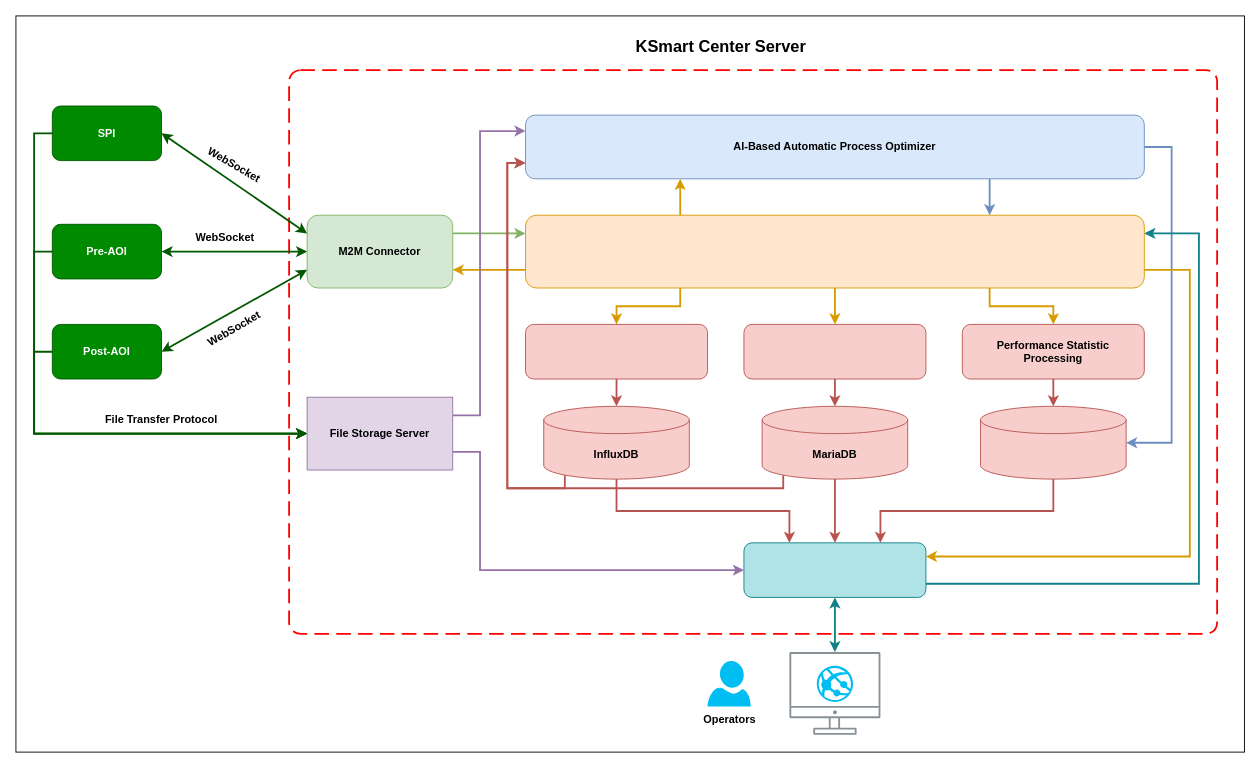
This 1260x768 diagram has some shape labels left out. The shapes that lost their labels are listed below. From the top down, each one's centre as x and y in pixels, then its label:
the point at 834,251: Kafka Event Broker Cluster
the point at 616,351: InfluxDB Connector (Store Inspection Data)
the point at 834,351: Line Management Processing
the point at 1053,442: Elasticsearch
the point at 834,569: Monitor Web App
